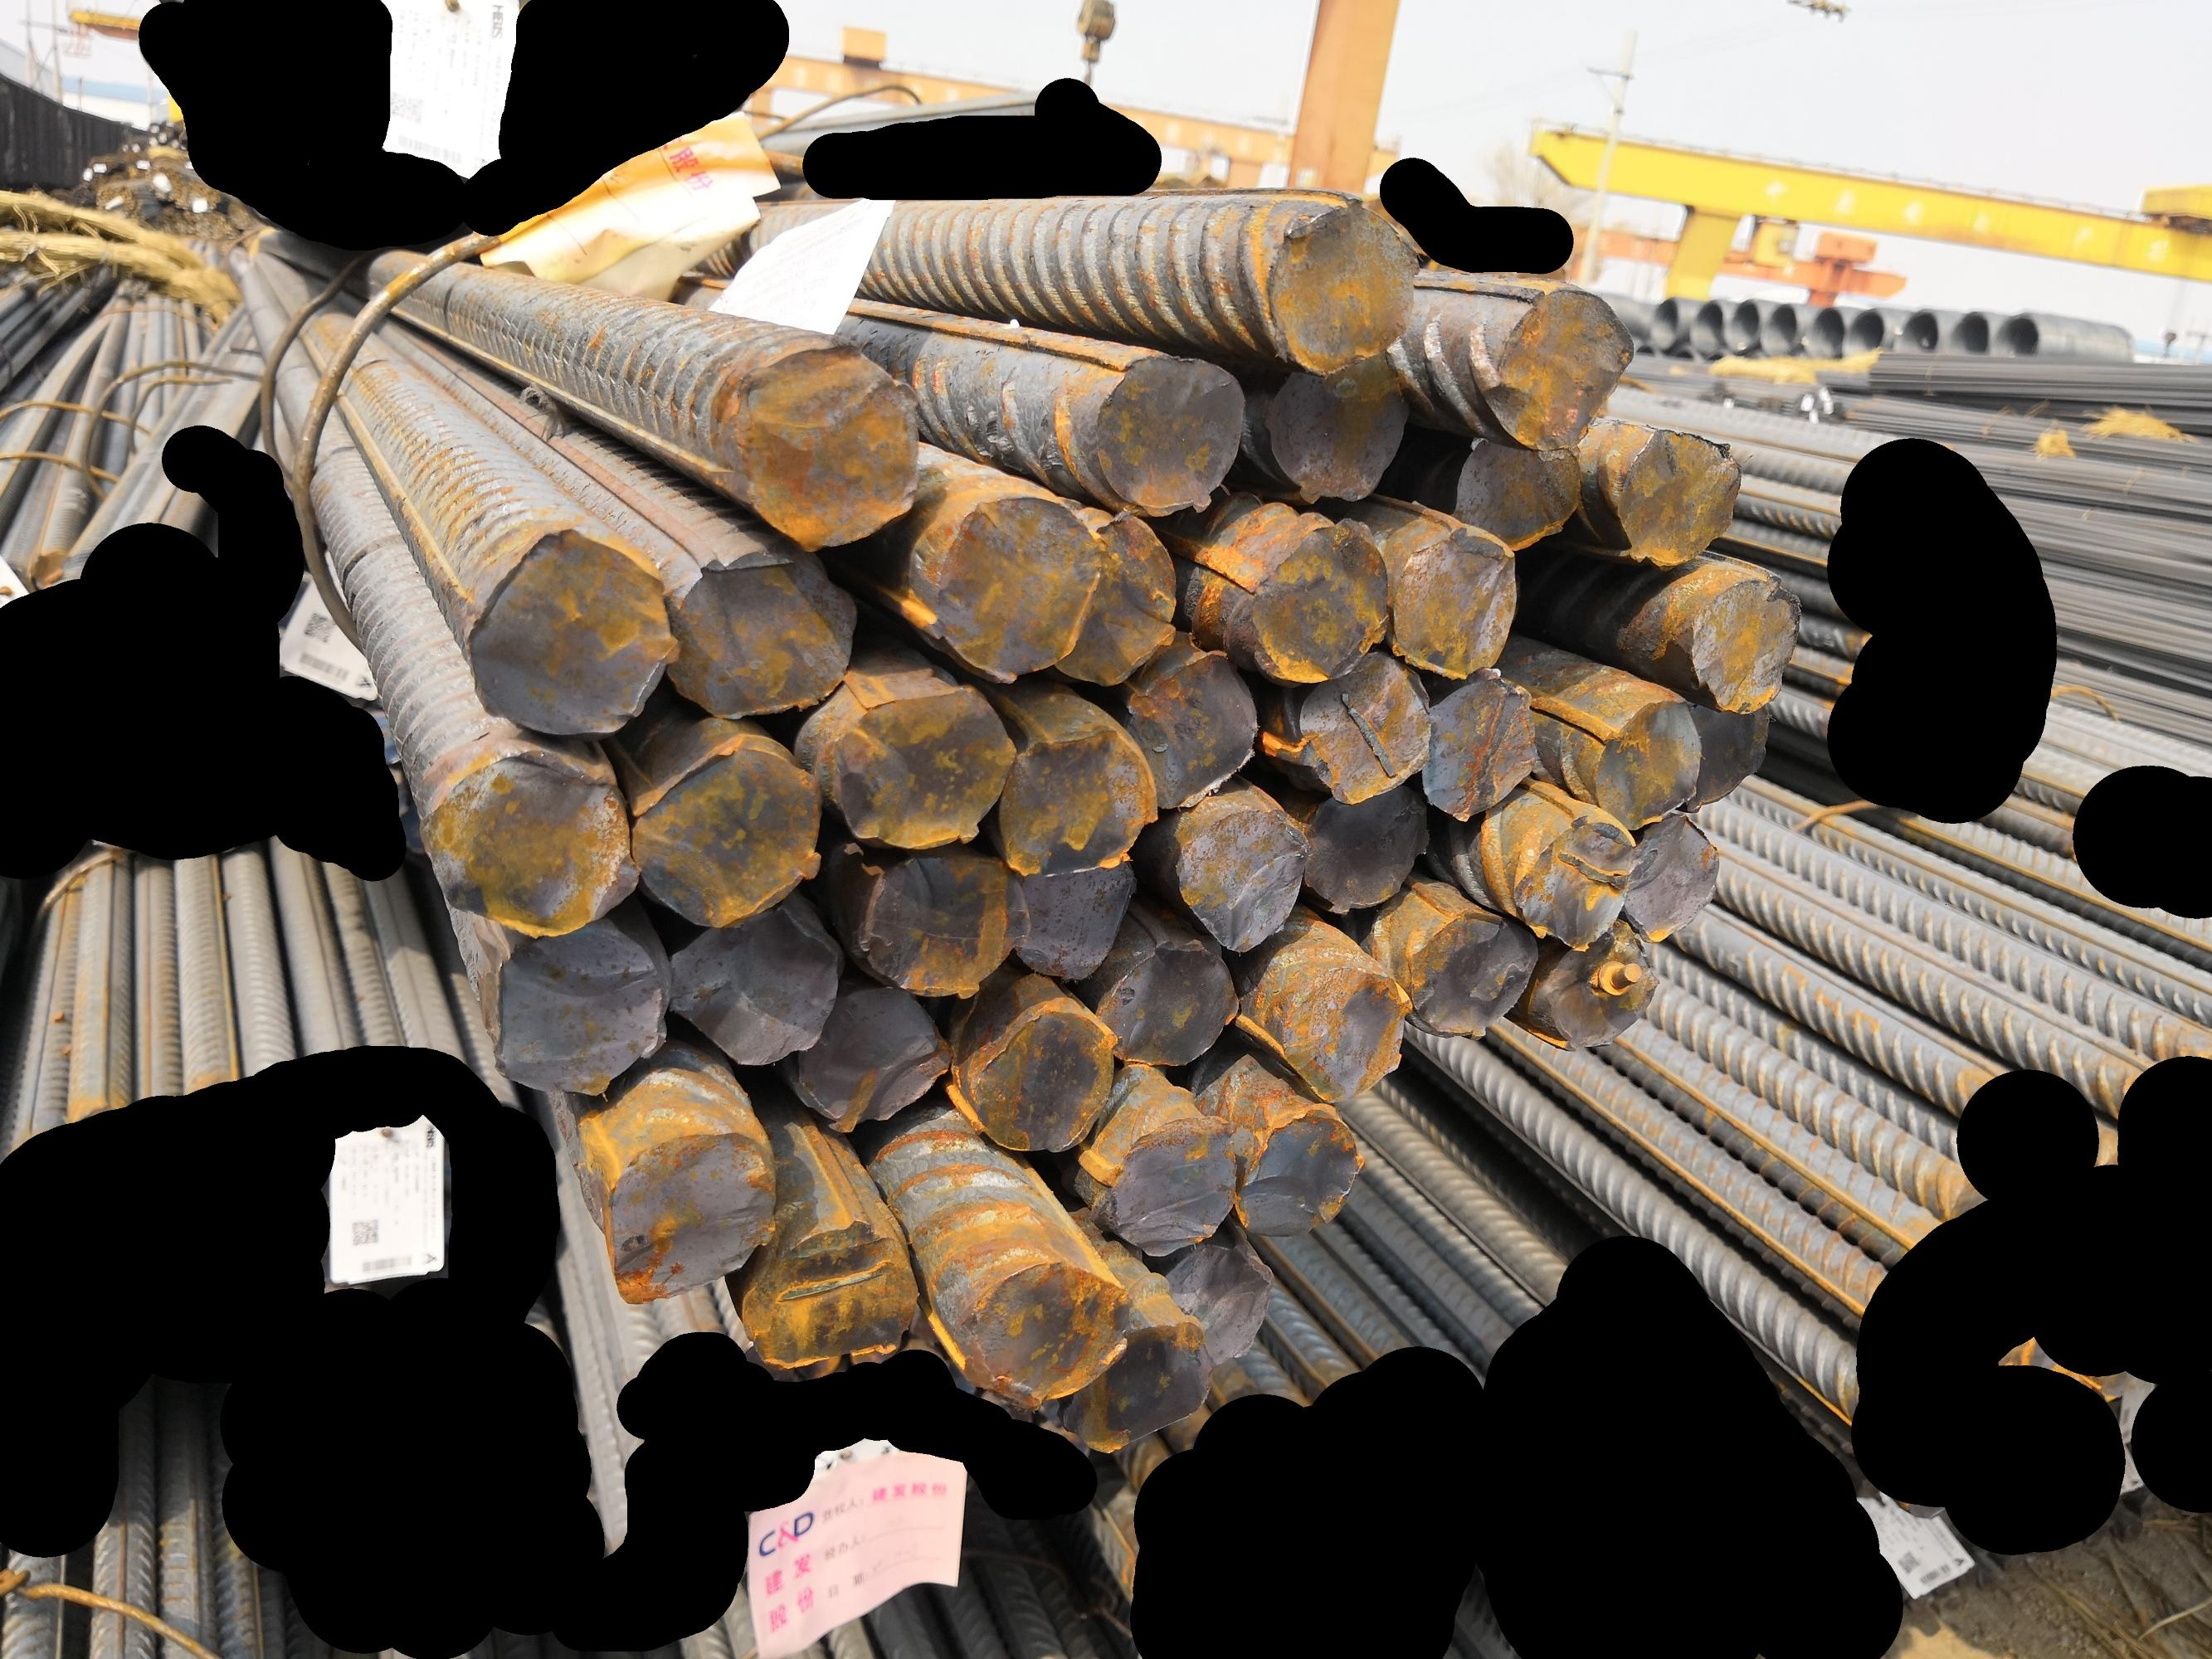bar: (458, 525, 682, 742), (417, 742, 640, 938), (732, 331, 924, 552), (628, 739, 824, 934), (664, 540, 859, 723), (922, 491, 1102, 687), (483, 917, 671, 1100), (823, 683, 1018, 854), (600, 1124, 779, 1307), (666, 903, 844, 1068), (1262, 192, 1422, 375), (736, 1215, 920, 1371), (952, 1255, 1130, 1412), (1483, 277, 1639, 451), (852, 850, 1030, 1002), (1089, 350, 1246, 519), (781, 983, 952, 1134), (1239, 516, 1391, 683), (999, 721, 1159, 878), (1041, 511, 1180, 687), (964, 1002, 1119, 1155), (1262, 349, 1417, 502), (1121, 648, 1262, 812), (1170, 802, 1311, 957), (1293, 648, 1431, 802), (1100, 1110, 1239, 1260), (1271, 960, 1414, 1105), (1063, 1316, 1211, 1455), (1391, 519, 1518, 681), (1095, 932, 1239, 1070), (1612, 425, 1745, 570), (1417, 669, 1539, 824), (1405, 903, 1537, 1040), (1299, 782, 1433, 917), (1232, 1107, 1367, 1239), (1511, 809, 1635, 950), (1687, 572, 1804, 714), (1541, 917, 1659, 1053), (1584, 695, 1703, 831), (1157, 1234, 1272, 1373), (1013, 857, 1137, 981), (1450, 437, 1581, 552), (1618, 809, 1719, 945), (1687, 699, 1773, 812)
